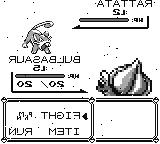captura: (1, 97, 160, 143)
seleccionado: (40, 111, 88, 121)
